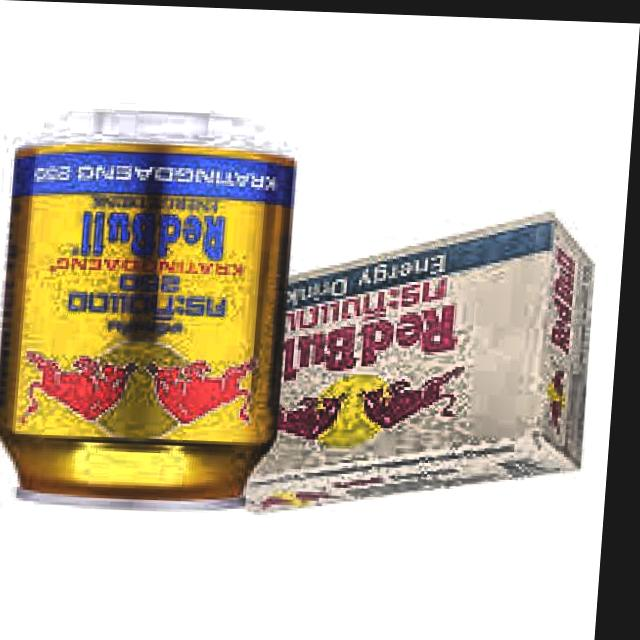can: (0, 110, 307, 523)
